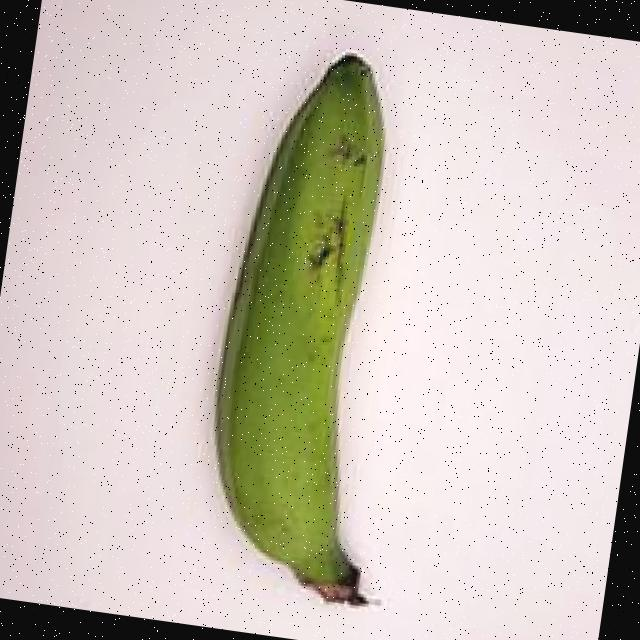Raw: (154, 15, 481, 636)
